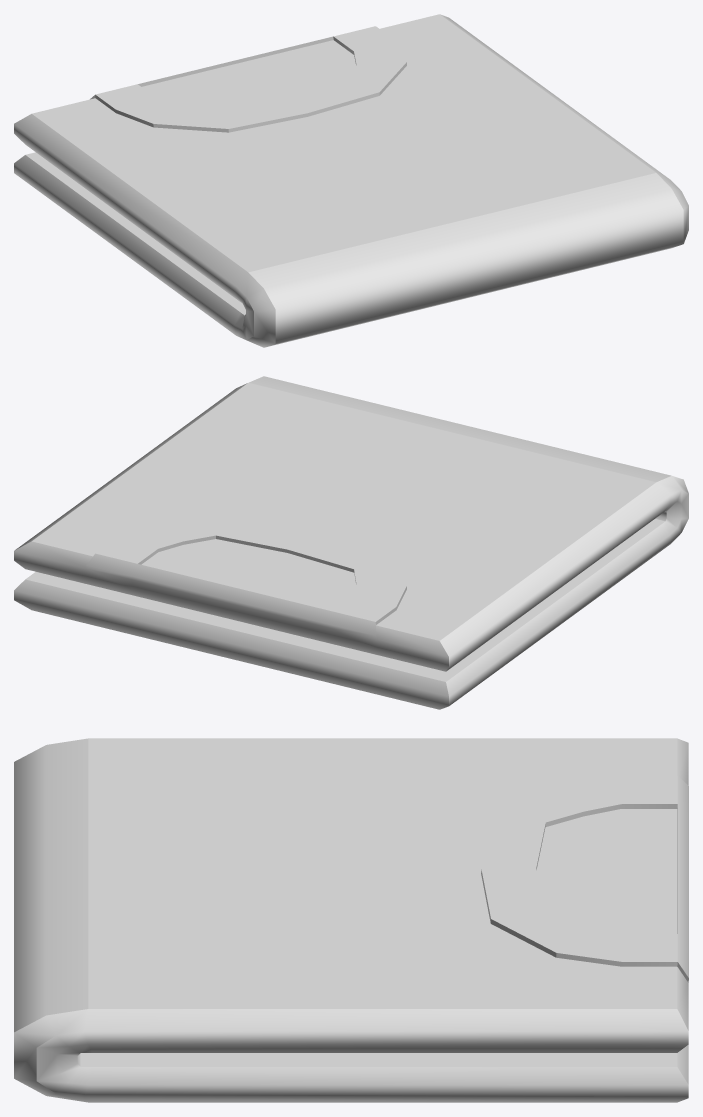
The model's file is MDL_CLWH_folded.fbx.
The picture shows the model from 3 angles, top to bottom: view 1: azimuth 30°, elevation 25°; view 2: azimuth 150°, elevation 25°; view 3: azimuth 270°, elevation 25°; orthographic projection. The views are drawn at different scales.
Parts seen in each view (by area): view 1: MDL_CL_fold; view 2: MDL_CL_fold; view 3: MDL_CL_fold.
Part boxes in pixels (<box>): MDL_CL_fold: <box>14,14,688,347</box>; MDL_CL_fold: <box>14,376,688,709</box>; MDL_CL_fold: <box>14,738,688,1102</box>.
Size of the model in its own units: 78.18 by 12.43 by 77.31.
